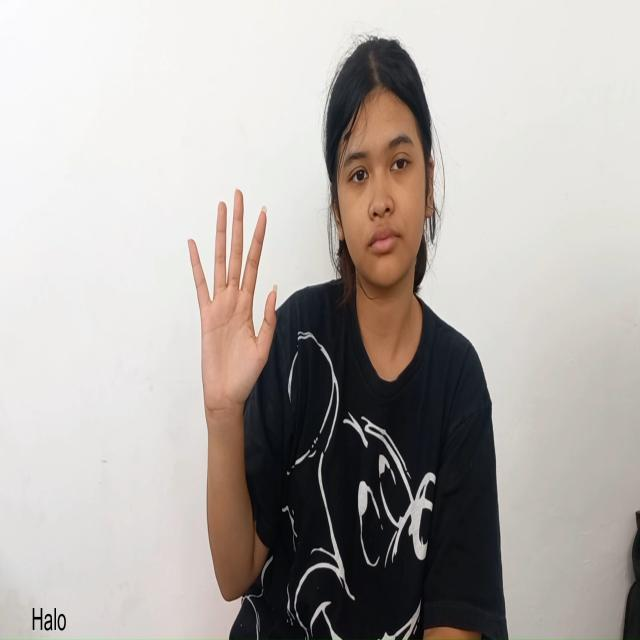Halo -BISINDO-: (177, 169, 283, 453)
